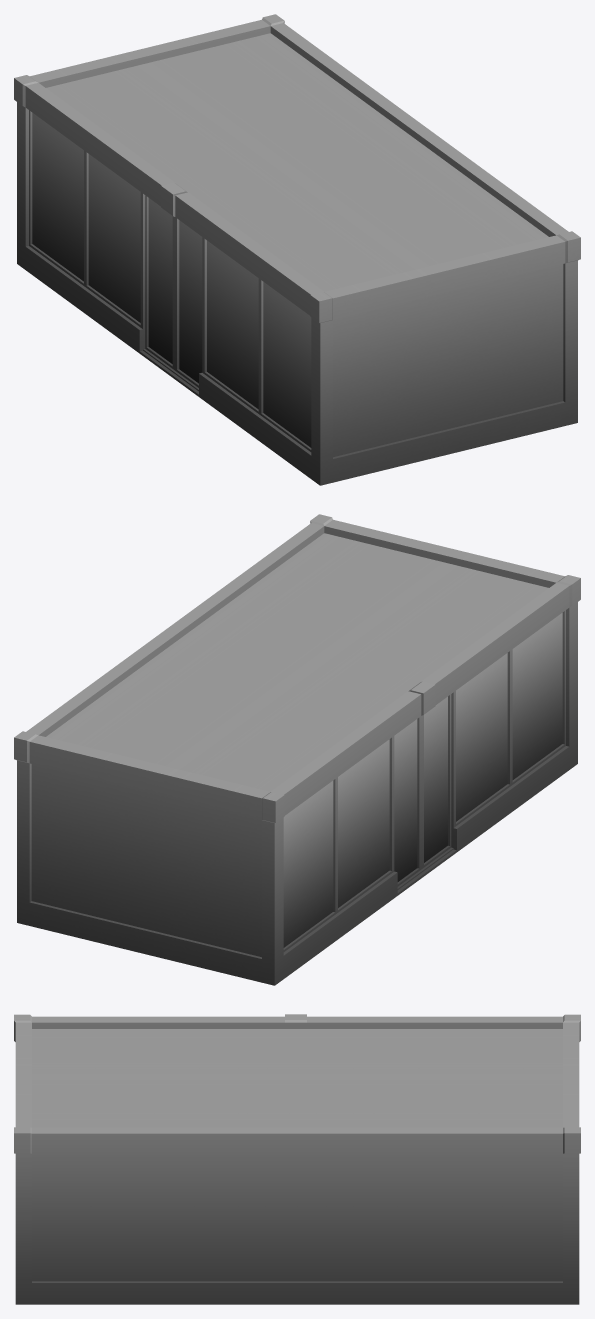
The model's file is miami_building_002.FBX.
The picture shows the model from 3 angles, top to bottom: view 1: azimuth 30°, elevation 25°; view 2: azimuth 150°, elevation 25°; view 3: azimuth 270°, elevation 25°; orthographic projection. The views are drawn at different scales.
Visible parts, largest first — view 1: Box003; view 2: Box003; view 3: Box003.
Boxes of the visible parts, <box> form: Box003: <box>14,14,580,485</box>; Box003: <box>14,514,580,985</box>; Box003: <box>14,1014,580,1304</box>.
Size of the model in its own units: 238 by 161 by 480.
